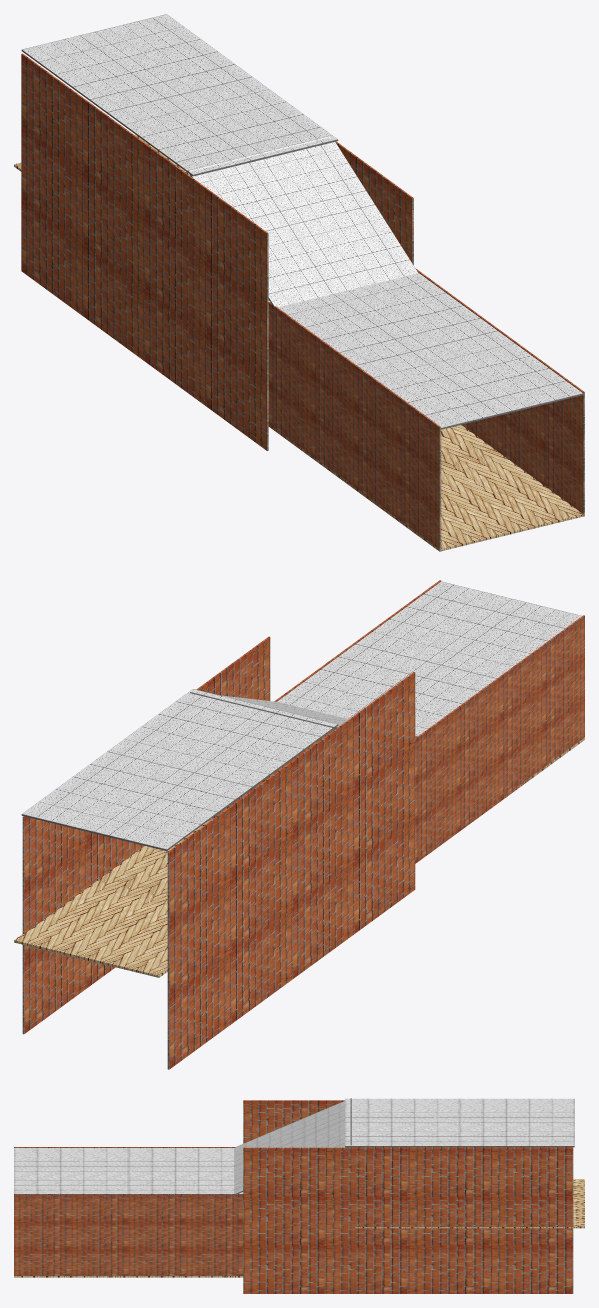
The model's file is 2nd Floor.fbx.
The picture shows the model from 3 angles, top to bottom: view 1: azimuth 30°, elevation 25°; view 2: azimuth 150°, elevation 25°; view 3: azimuth 270°, elevation 25°; orthographic projection. The views are drawn at different scales.
Parts seen in each view (by area): view 1: Wall3, Floor2 (×2), Wall1, pPlane2, Wall2 (×2), Floor1; view 2: Wall3, Floor2 (×2), Wall1, Wall2 (×2), Floor1, pPlane2; view 3: Wall2 (×2), Floor2 (×2), pPlane2, Wall3, Floor1 (×2).
Part boxes in pixels (bbox=[...]): Wall3: bbox=[21, 53, 268, 450]; Floor2 (×2): bbox=[21, 14, 584, 429]; Wall1: bbox=[268, 302, 441, 551]; pPlane2: bbox=[188, 135, 418, 307]; Wall2 (×2): bbox=[335, 141, 584, 516]; Floor1: bbox=[269, 424, 584, 551]; Wall3: bbox=[167, 672, 415, 1069]; Floor2 (×2): bbox=[21, 581, 584, 850]; Wall1: bbox=[415, 615, 584, 863]; Wall2 (×2): bbox=[22, 580, 441, 1034]; Floor1: bbox=[14, 821, 209, 977]; pPlane2: bbox=[190, 692, 418, 737]; Wall2 (×2): bbox=[14, 1147, 573, 1293]; Floor2 (×2): bbox=[14, 1098, 574, 1195]; pPlane2: bbox=[234, 1098, 351, 1193]; Wall3: bbox=[243, 1100, 572, 1147]; Floor1 (×2): bbox=[14, 1179, 584, 1277].
Size of the model in its own units: 0.0494 by 0.0713 by 0.2486.
Materials: 3 (3 with a texture image).
